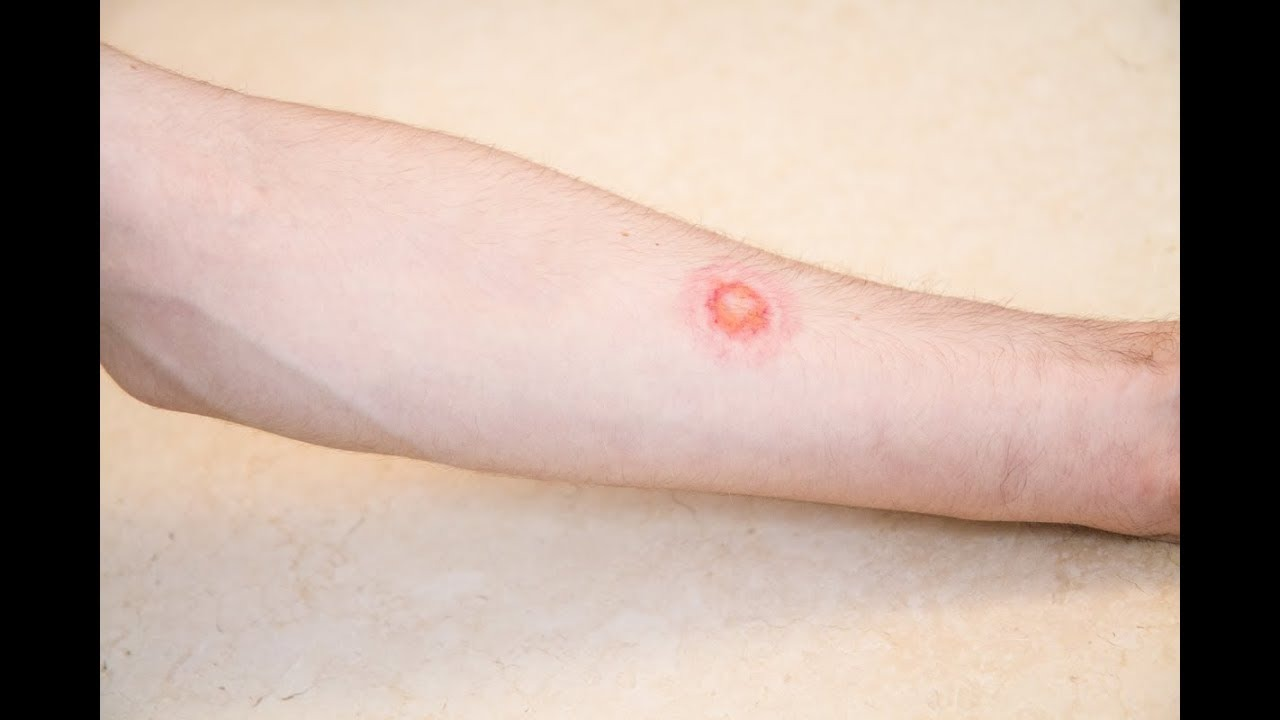Ringworm: (674, 248, 798, 364)
